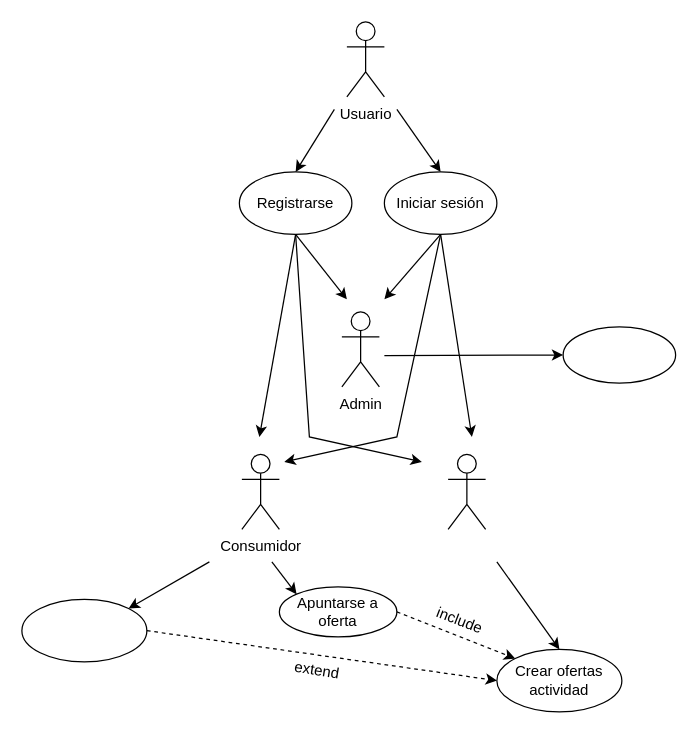
Some shapes in this 698 by 734 pixel diagram are drawn without their labels. The shapes that lost their labels are listed below. From the top down, each one's centre as x and y in pixels, then its label:
At (x=619, y=354): "Gestionar ofertas".
At (x=466, y=491): "Ofertante".
At (x=84, y=630): "Crear solicitudes actividad".
